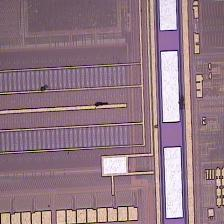PIQ PARTICLE: (38, 83, 191, 112)
